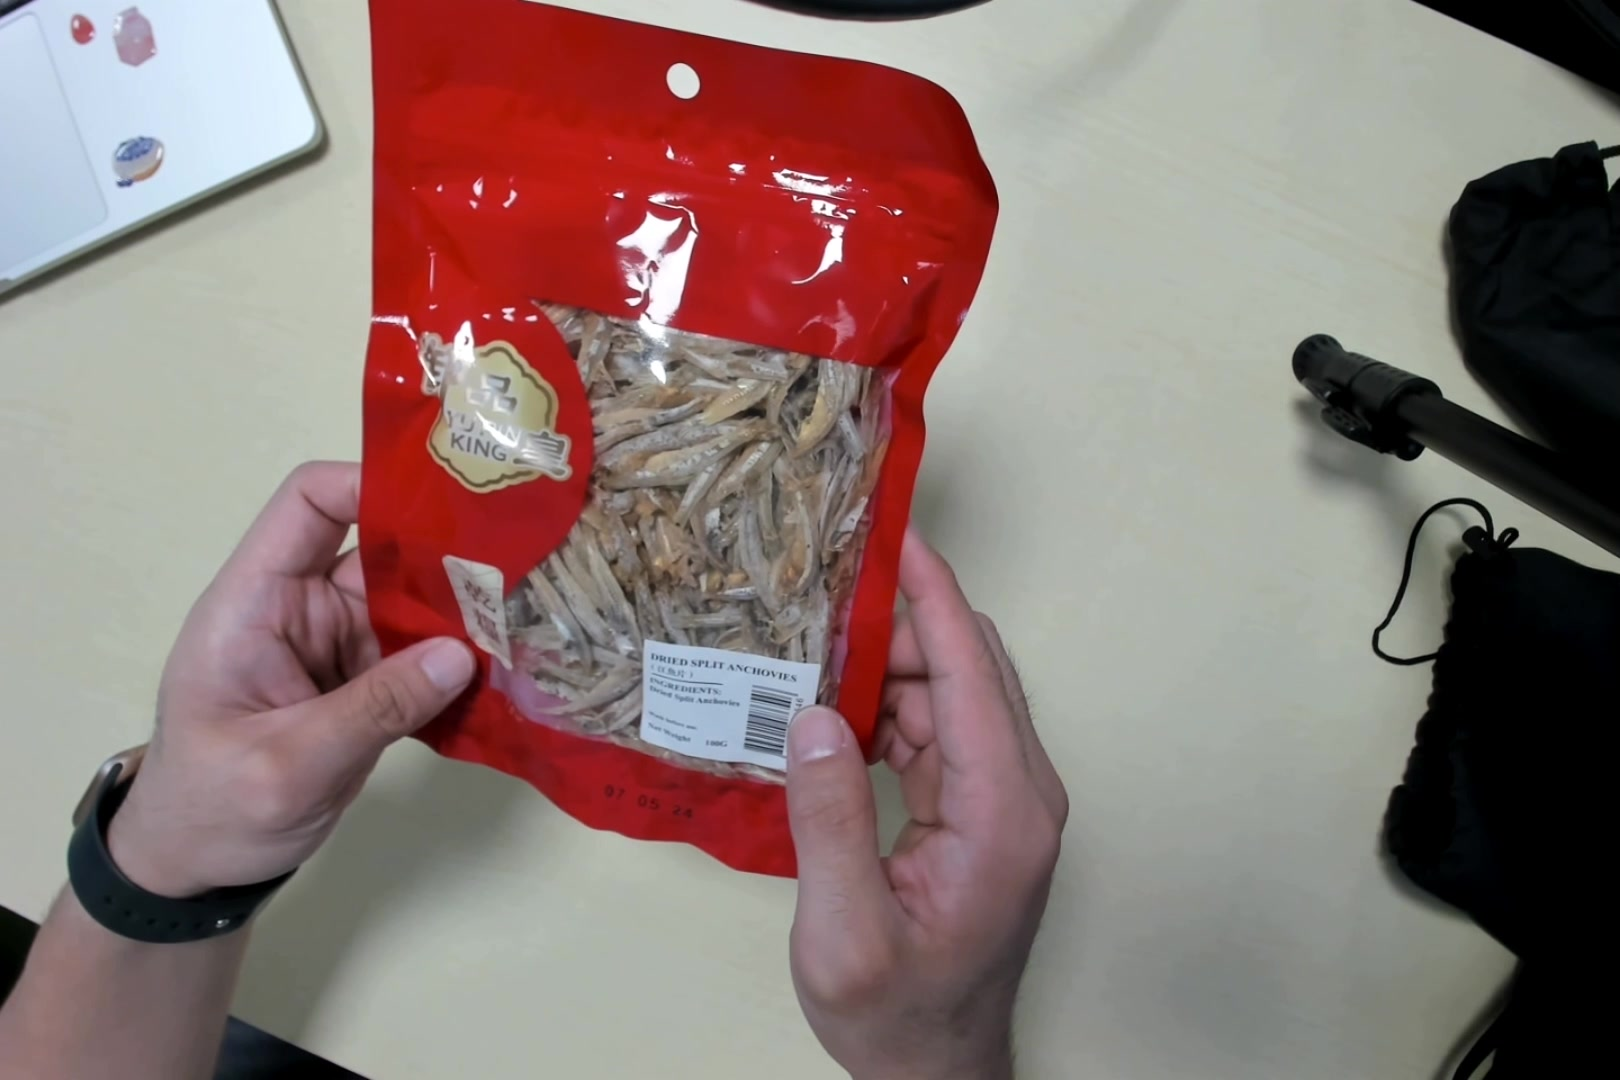DriedMeatSeafood_100-199g_NonHalal_NonHealthy: (363, 1, 965, 879)
